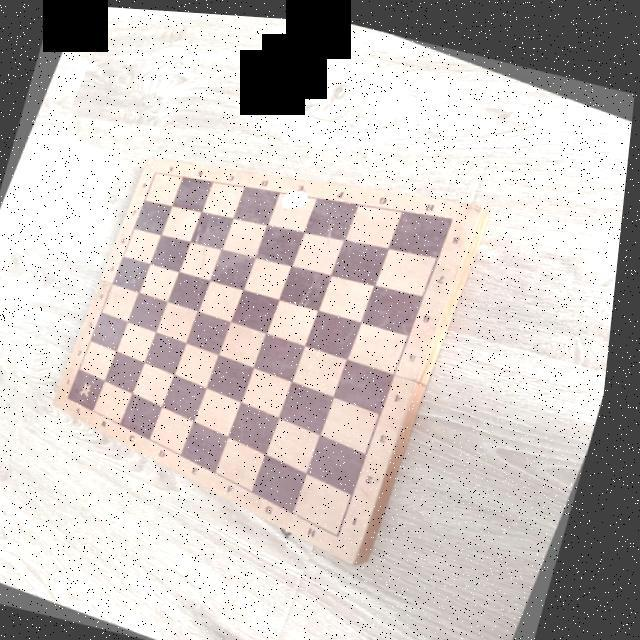chess-table-corners: (339, 524, 354, 536), (449, 206, 460, 217), (153, 165, 163, 172), (72, 392, 78, 398)
